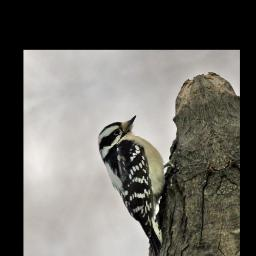Woodpecker: (91, 100, 206, 256)
